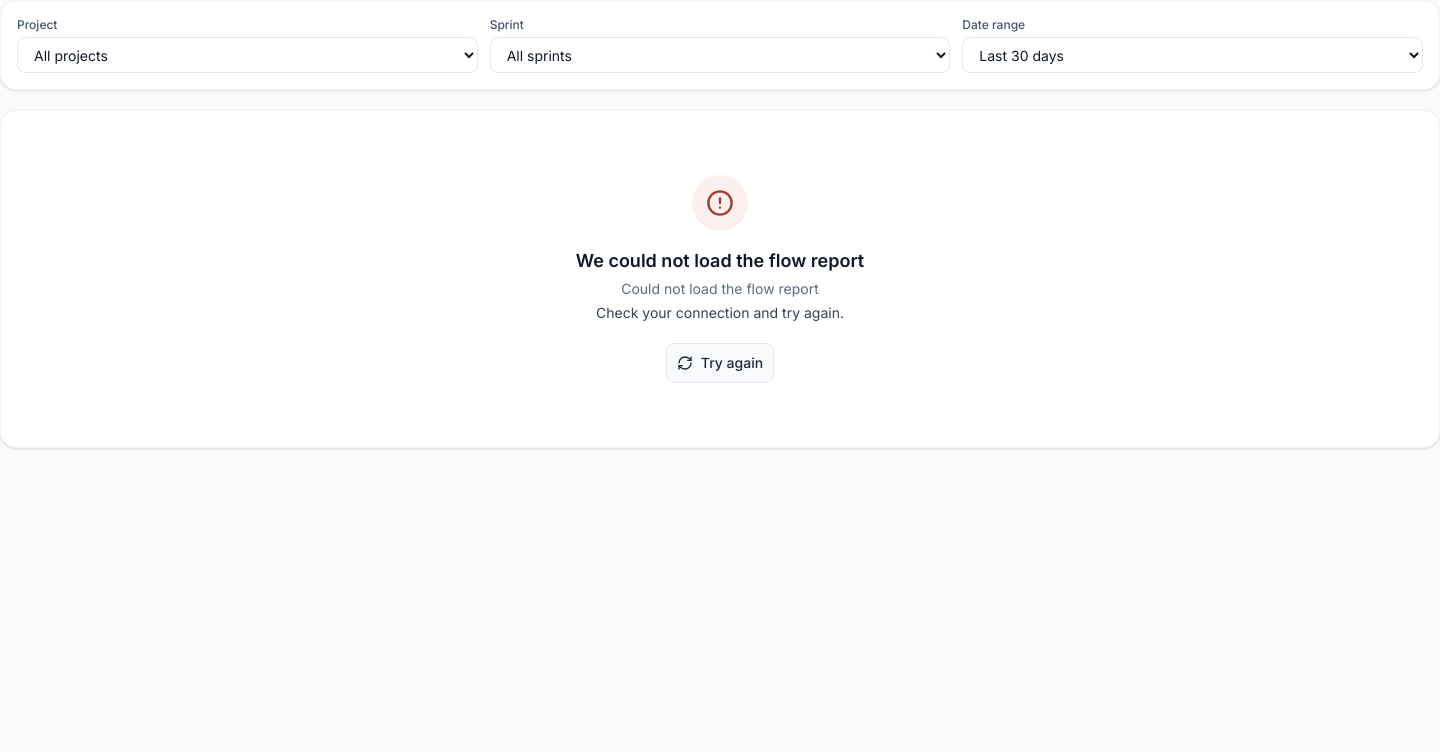
FlowReportPanel › shows an error and loads again on retry
This screenshot has width=1440, height=752.
Expected: the message shows "We could not load the flow report", [576,250,864,271]
Step 1. Click the button "Try again" → (720, 363), box [666,343,774,383]
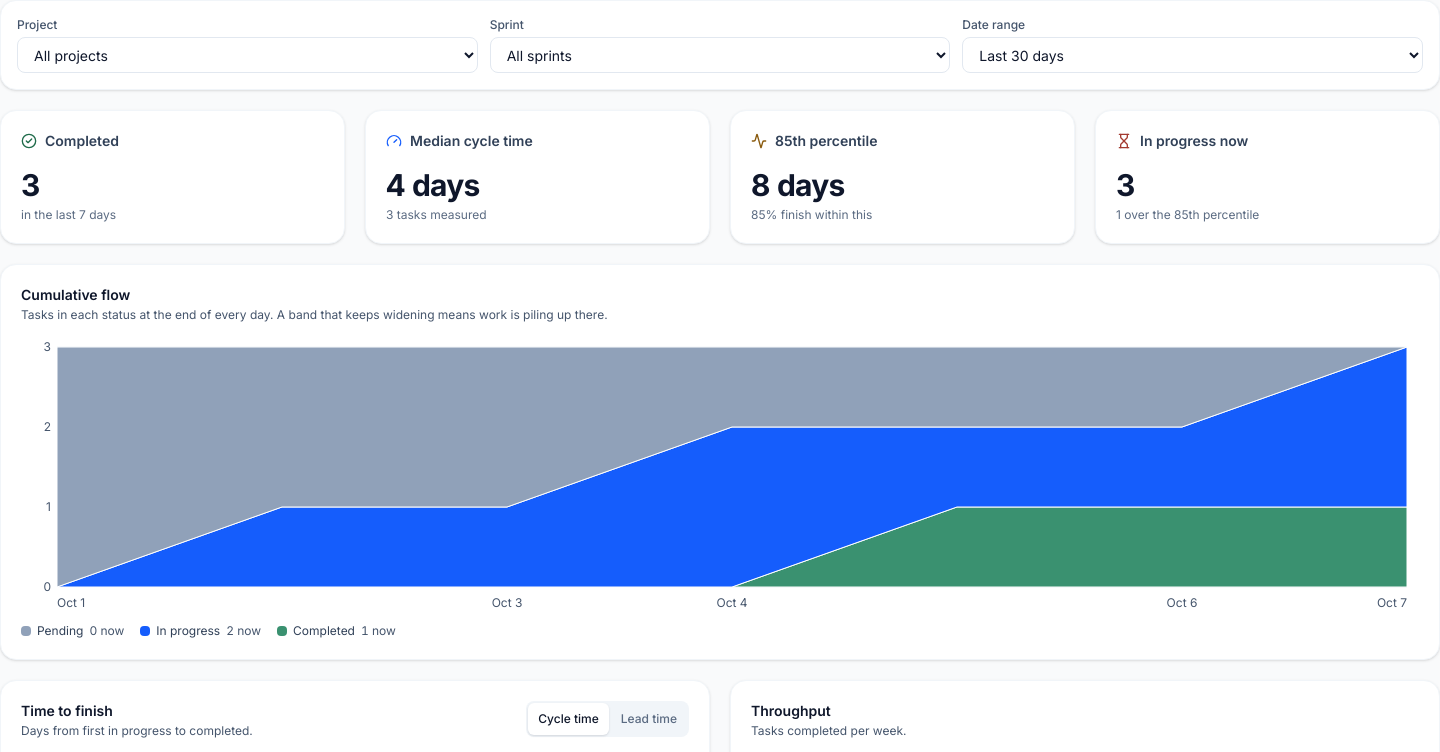
Now the heading "Cumulative flow" is shown, box [21,286,130,303]
